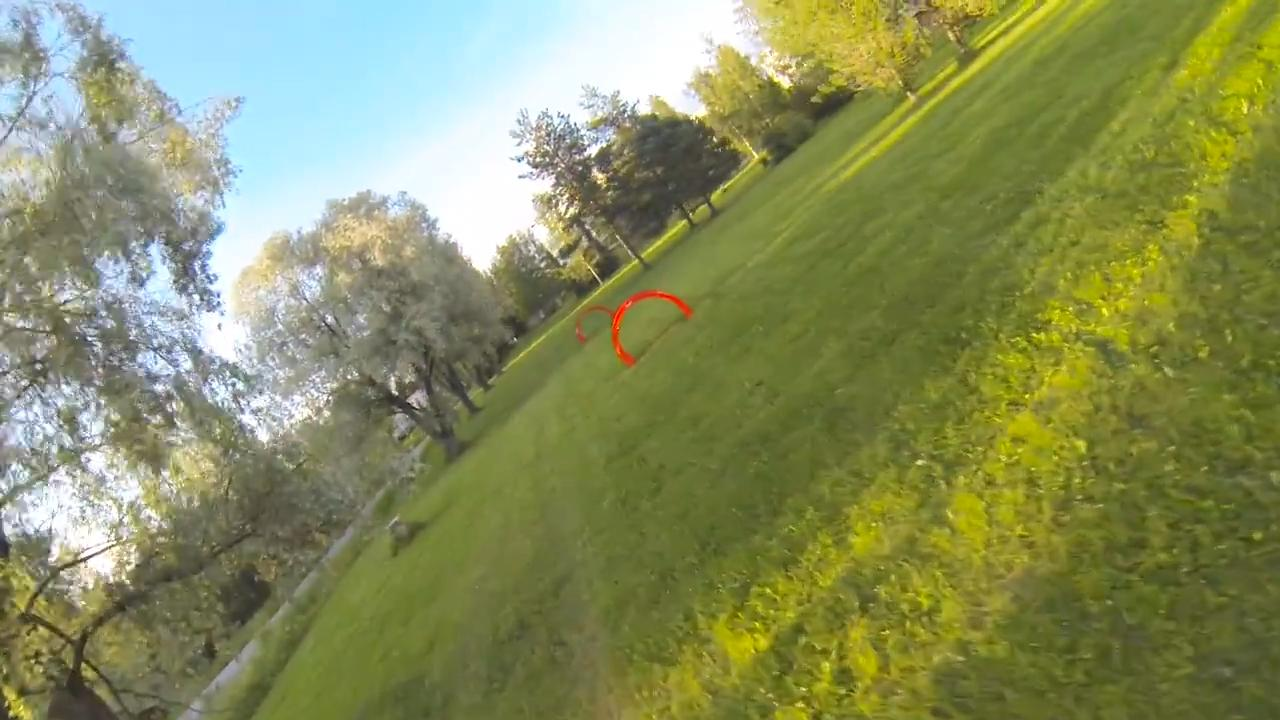gate: (612, 288, 693, 369)
